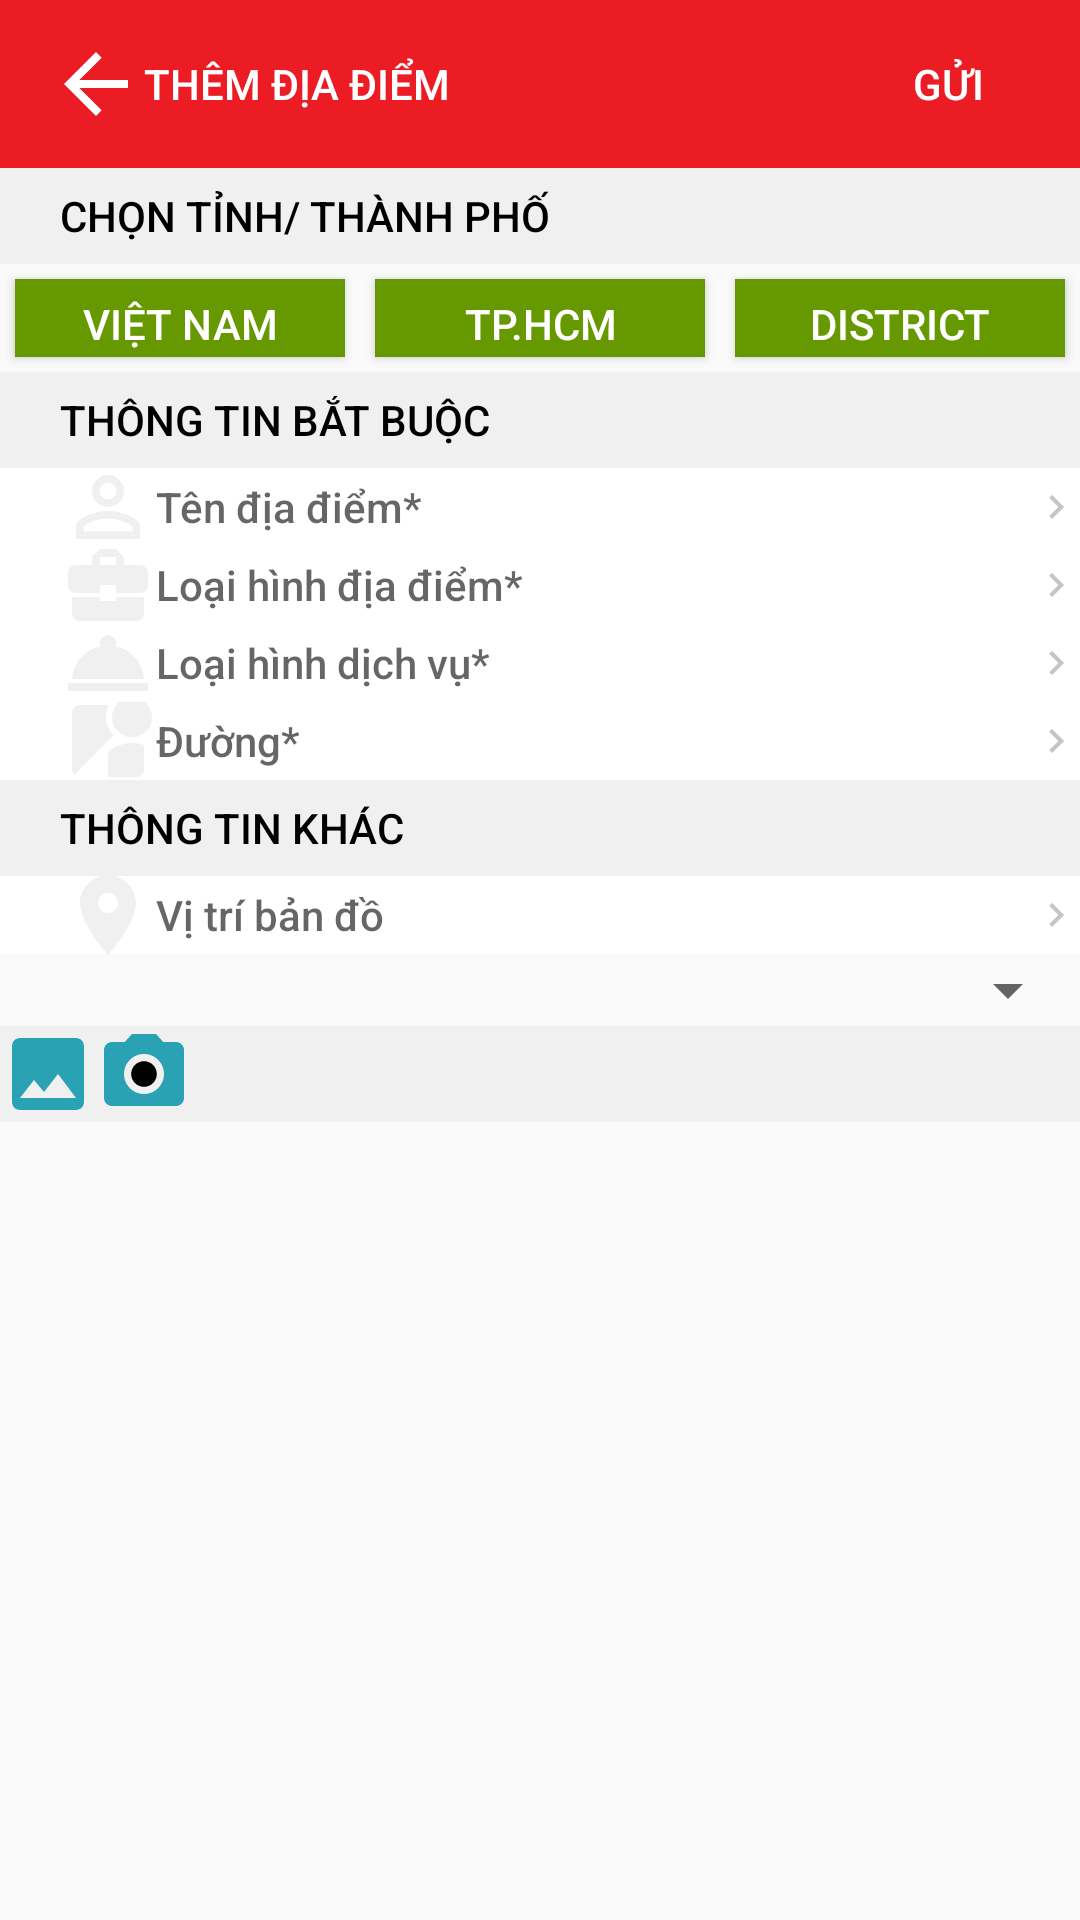

Where to tap for icons on this 1080 × 1920 app screen, as point (x, y):
camera: point (144, 1070)
insert photo: point (48, 1074)
